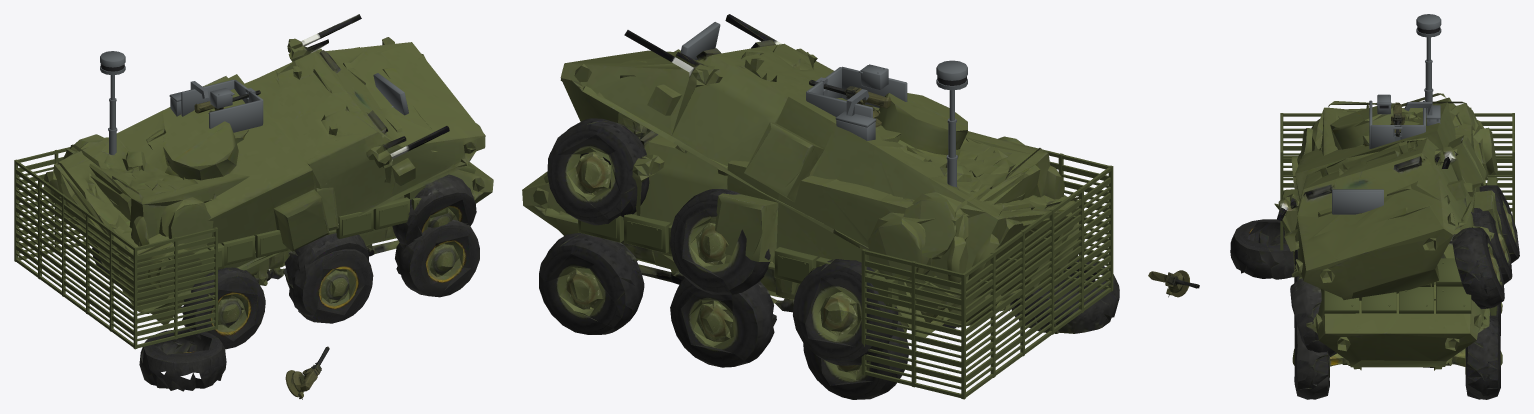
Rendered from apc_kipod.glb.
3 renders of one model, left to right at view 1: azimuth 30°, elevation 25°; view 2: azimuth 150°, elevation 25°; view 3: azimuth 270°, elevation 25°, orthographic. The views are drawn at different scales.
Visible parts, largest first — view 1: WRECK_hull_hull, hull_rubber, hull_hull, WRECK_hull_rubber, kit_armour_3_hull_hull_far, kit_armour_3_hull_hull_near, kit_armour_3_hull_hull, kit_armour_2_hull_hull, kit_firepower_3_turret_metal, kit_sensors_3_hull_hull, kit_sensors_2_hull_hull, WRECK_turret_metal (+1 smaller); view 2: WRECK_hull_hull, hull_hull, WRECK_hull_rubber, hull_rubber, kit_armour_3_hull_hull_far, kit_armour_3_hull_hull_near, kit_armour_3_hull_hull, kit_armour_2_hull_hull, kit_firepower_3_turret_metal, kit_sensors_3_hull_hull, kit_firepower_2_turret_metal, kit_sensors_2_hull_hull (+1 smaller); view 3: WRECK_hull_hull, hull_hull, WRECK_hull_rubber, hull_rubber, kit_armour_1_hull_hull, kit_armour_3_hull_hull, kit_sensors_2_hull_hull, kit_armour_3_hull_hull_far, kit_firepower_3_turret_metal, kit_sensors_3_hull_hull, kit_armour_3_hull_hull_near, WRECK_turret_metal (+1 smaller).
Boxes of the visible parts, box(x1,y1,x2,y2) form: WRECK_hull_hull: box(43, 14, 485, 324); hull_rubber: box(92, 219, 479, 349); hull_hull: box(66, 129, 493, 326); WRECK_hull_rubber: box(139, 174, 476, 391); kit_armour_3_hull_hull_far: box(16, 157, 215, 336); kit_armour_3_hull_hull_near: box(16, 160, 215, 341); kit_armour_3_hull_hull: box(14, 147, 217, 349); kit_armour_2_hull_hull: box(195, 197, 448, 272); kit_firepower_3_turret_metal: box(181, 79, 263, 132); kit_sensors_3_hull_hull: box(100, 51, 125, 154); kit_sensors_2_hull_hull: box(373, 73, 408, 115); WRECK_turret_metal: box(285, 346, 329, 398); WRECK_hull_hull: box(560, 14, 1085, 364); hull_hull: box(522, 106, 1064, 393); WRECK_hull_rubber: box(547, 118, 1119, 365); hull_rubber: box(539, 233, 909, 399); kit_armour_3_hull_hull_far: box(865, 161, 1110, 383); kit_armour_3_hull_hull_near: box(865, 165, 1110, 389); kit_armour_3_hull_hull: box(861, 145, 1113, 399); kit_armour_2_hull_hull: box(578, 214, 898, 307); kit_firepower_3_turret_metal: box(806, 66, 907, 117); kit_sensors_3_hull_hull: box(936, 60, 967, 187); kit_firepower_2_turret_metal: box(815, 77, 876, 140); kit_sensors_2_hull_hull: box(680, 22, 720, 60); WRECK_hull_hull: box(1274, 93, 1507, 300); hull_hull: box(1295, 101, 1501, 370); WRECK_hull_rubber: box(1230, 185, 1519, 356); hull_rubber: box(1292, 249, 1502, 399); kit_armour_1_hull_hull: box(1324, 258, 1471, 313); kit_armour_3_hull_hull: box(1280, 113, 1514, 250); kit_sensors_2_hull_hull: box(1332, 189, 1383, 214); kit_armour_3_hull_hull_far: box(1283, 121, 1512, 199); kit_firepower_3_turret_metal: box(1369, 100, 1425, 149); kit_sensors_3_hull_hull: box(1416, 14, 1441, 112); kit_armour_3_hull_hull_near: box(1283, 123, 1512, 204); WRECK_turret_metal: box(1162, 270, 1199, 297).
Bounding box in the file's own units: 7.62 × 5.2 × 6.58.
1 material, 1 textured.
